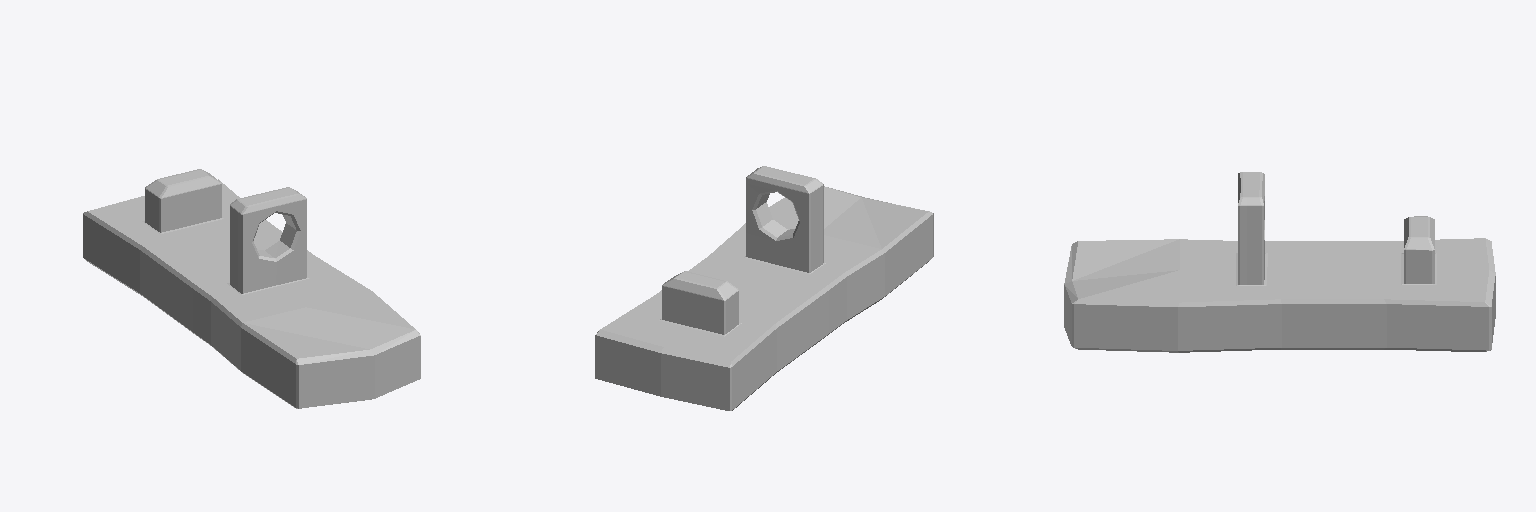
The model's file is Torch_Holder_Low.obj.
3 renders of one model, left to right at view 1: azimuth 30°, elevation 25°; view 2: azimuth 150°, elevation 25°; view 3: azimuth 270°, elevation 25°, orthographic.
Parts seen in each view (by area): view 1: Torch_Holder_Low_Cube.055; view 2: Torch_Holder_Low_Cube.055; view 3: Torch_Holder_Low_Cube.055.
Boxes of the visible parts, x1,y1,x2,y2 form: Torch_Holder_Low_Cube.055: [83, 169, 420, 408]; Torch_Holder_Low_Cube.055: [595, 166, 933, 410]; Torch_Holder_Low_Cube.055: [1064, 172, 1495, 352].
Size of the model in its own units: 46.67 by 45.86 by 128.